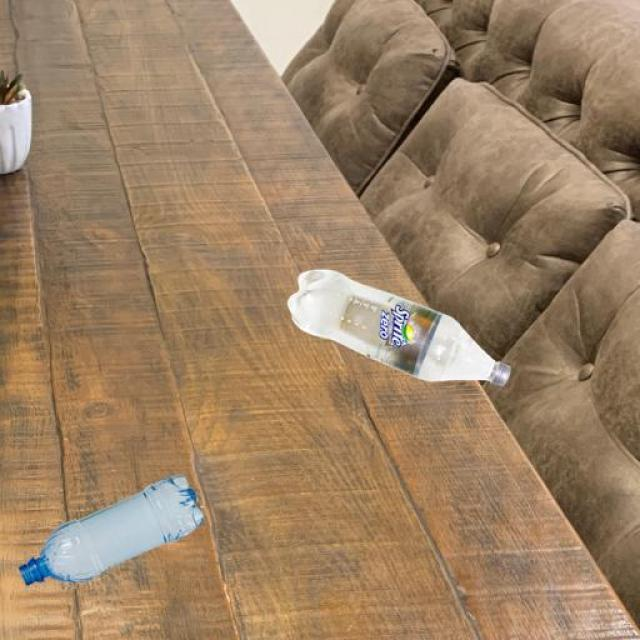bottle: (285, 266, 511, 388), (17, 472, 205, 586)
